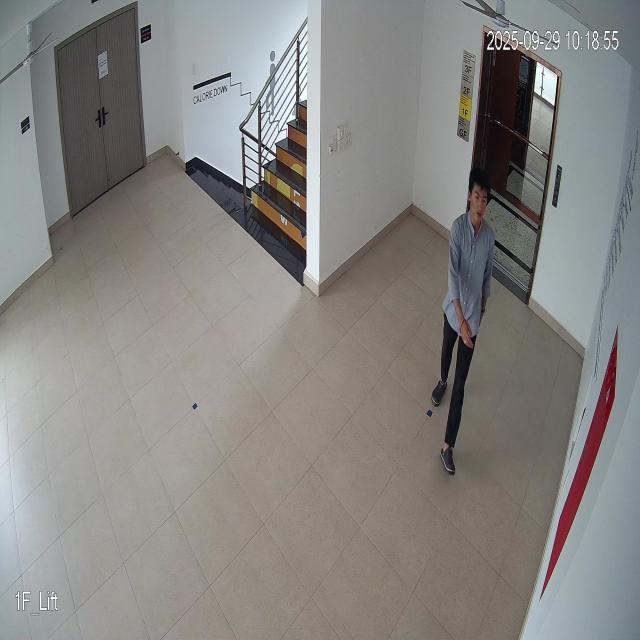face: (467, 172, 494, 230)
